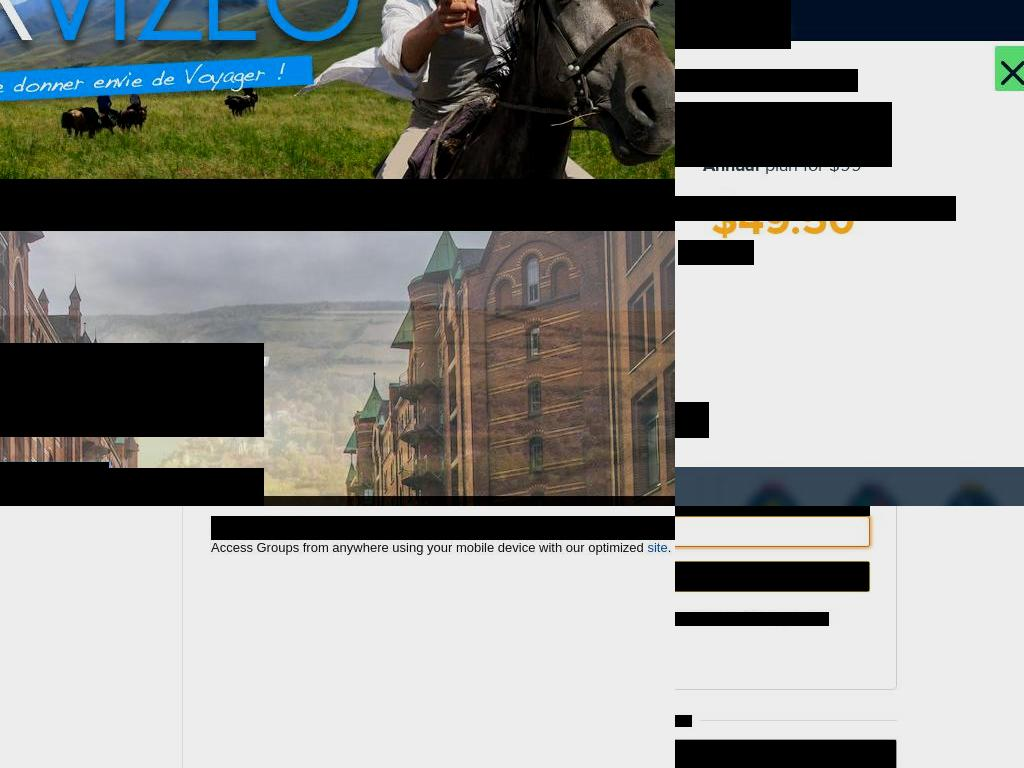button: (0, 0, 368, 130), (719, 471, 1024, 506), (322, 179, 513, 231), (154, 179, 323, 231), (512, 179, 675, 231), (0, 179, 155, 231), (675, 740, 896, 768), (678, 240, 754, 265)
field: (675, 102, 892, 167), (675, 516, 870, 547), (675, 562, 869, 591)
heading: (211, 516, 675, 540), (675, 69, 858, 92), (675, 402, 709, 438)
image: (0, 0, 368, 130), (724, 472, 1024, 506), (0, 462, 109, 468)
label: (675, 506, 870, 516)
link: (749, 612, 827, 626), (675, 612, 722, 626), (647, 540, 669, 555)
text: (0, 343, 264, 437), (0, 194, 675, 216), (0, 468, 264, 506), (675, 196, 956, 221), (211, 540, 647, 555), (675, 0, 791, 49), (2, 194, 118, 216), (547, 194, 663, 216), (361, 194, 476, 216), (189, 194, 301, 216), (722, 612, 750, 626), (667, 540, 671, 555), (825, 612, 829, 626)
